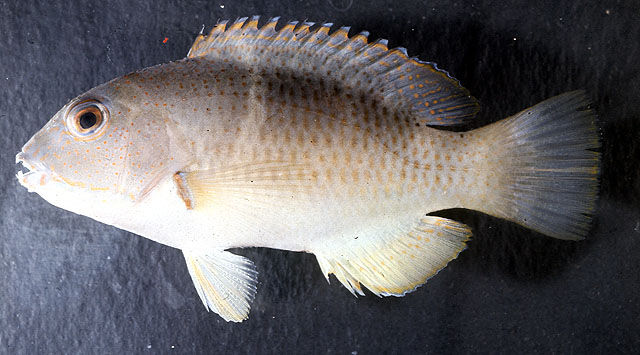fish: (14, 16, 601, 324)
